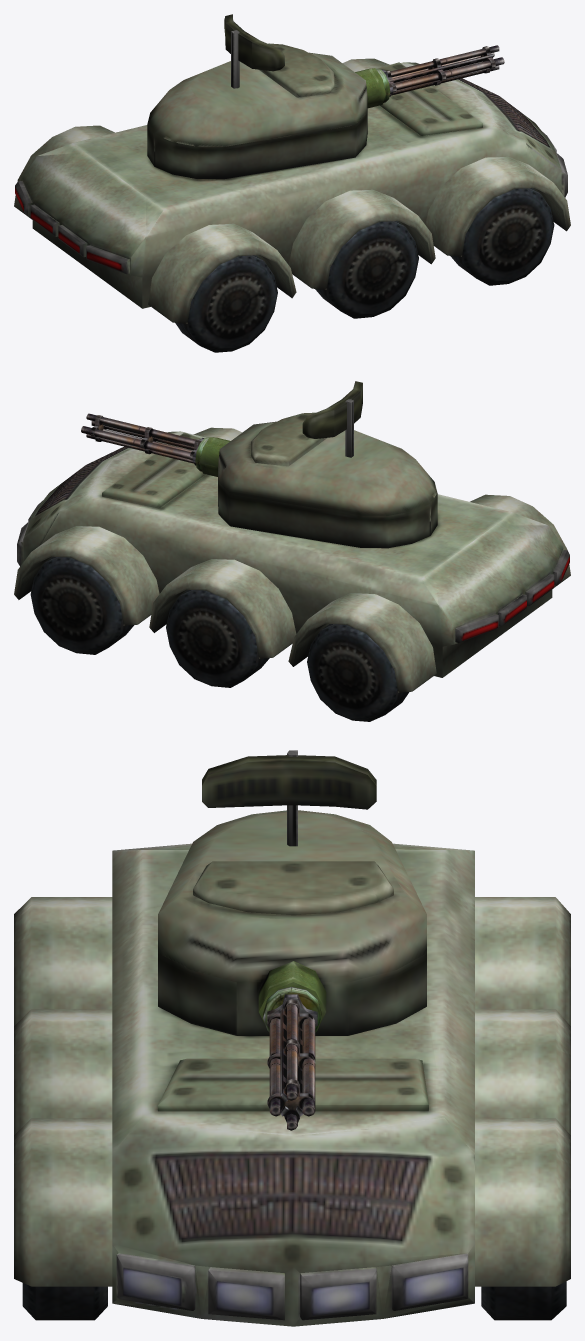
Rendered from triax_wheels.obj.
3 renders of one model, top to bottom at view 1: azimuth 30°, elevation 25°; view 2: azimuth 150°, elevation 25°; view 3: azimuth 270°, elevation 25°, orthographic. The views are drawn at different scales.
Parts seen in each view (by area): view 1: Group; view 2: Group; view 3: Group.
Boxes of the visible parts, x1=… form: Group: x1=14, y1=14, x2=570, y2=352; Group: x1=14, y1=381, x2=570, y2=721; Group: x1=14, y1=750, x2=570, y2=1326.
Bounding box in the file's own units: 163 × 77.95 × 98.07.
1 material, 1 textured.
